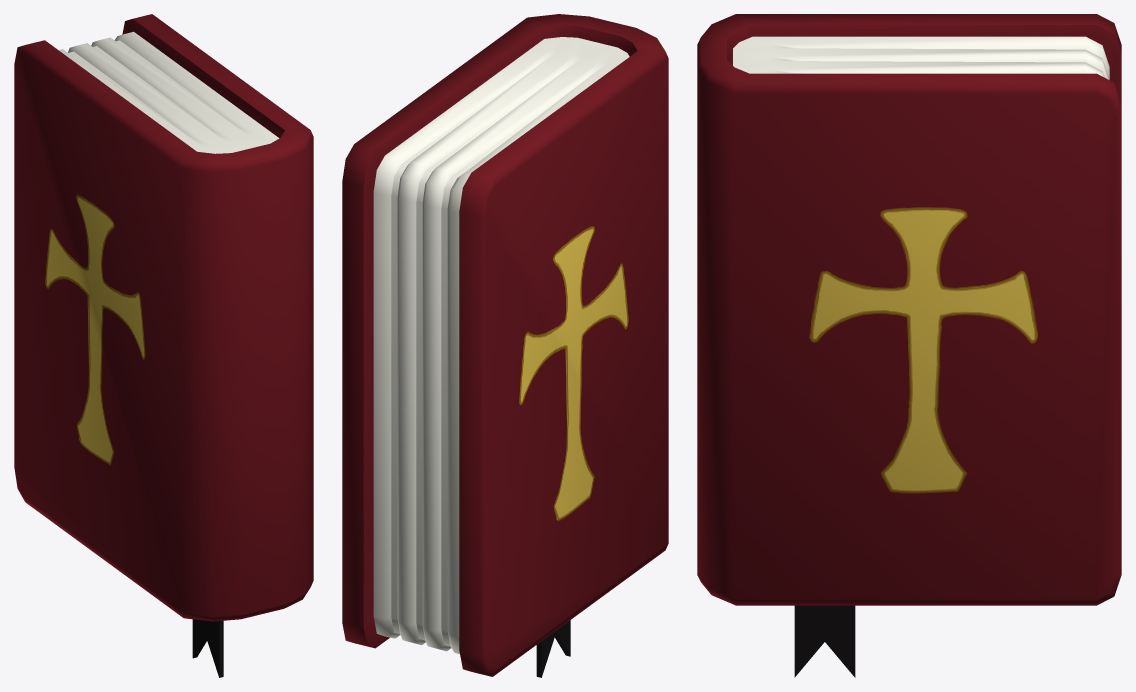
File: BookF.fbx
3 renders of one model, left to right at view 1: azimuth 30°, elevation 25°; view 2: azimuth 150°, elevation 25°; view 3: azimuth 270°, elevation 25°, orthographic. The views are drawn at different scales.
Visible parts, largest first — view 1: Book F; view 2: Book F; view 3: Book F.
Part boxes in pixels (bbox=[...]): Book F: bbox=[14, 14, 313, 677]; Book F: bbox=[342, 14, 668, 677]; Book F: bbox=[697, 14, 1121, 677].
Bounding box in the file's own units: 0.2134 × 0.8547 × 0.524.
